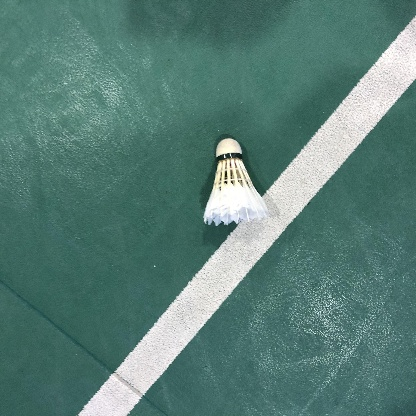ball_single: (203, 139, 269, 226)
